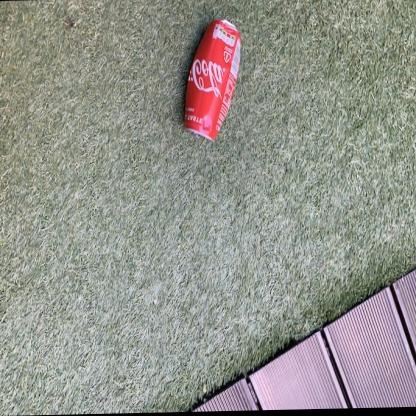trash: (184, 19, 240, 139)
